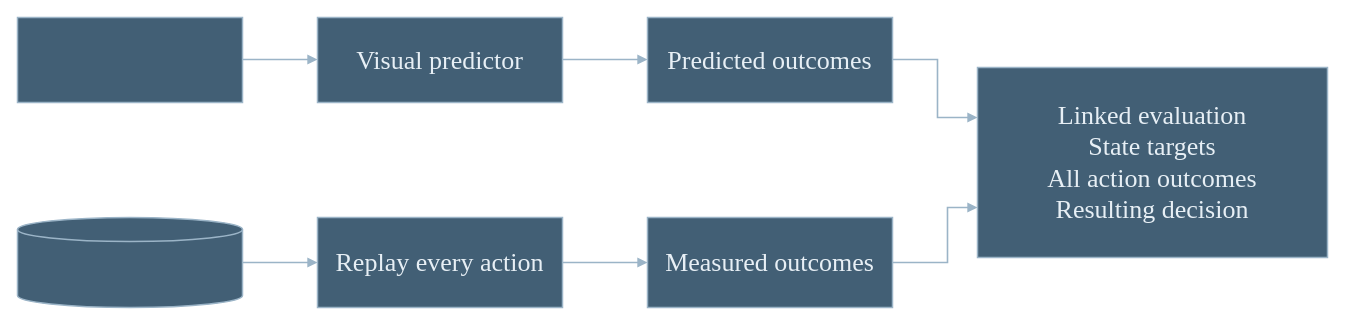
Some shapes in this 1346 by 326 pixel diagram are drawn without their labels. Here are the shapes that lost their labels. From the top down, the centre of each, then its label:
(x=129, y=59): Observed history
(x=129, y=262): Saved state
